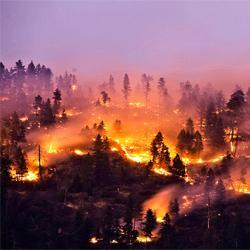fire: (117, 133, 156, 163), (183, 155, 221, 165), (22, 171, 40, 184), (46, 143, 56, 156)
